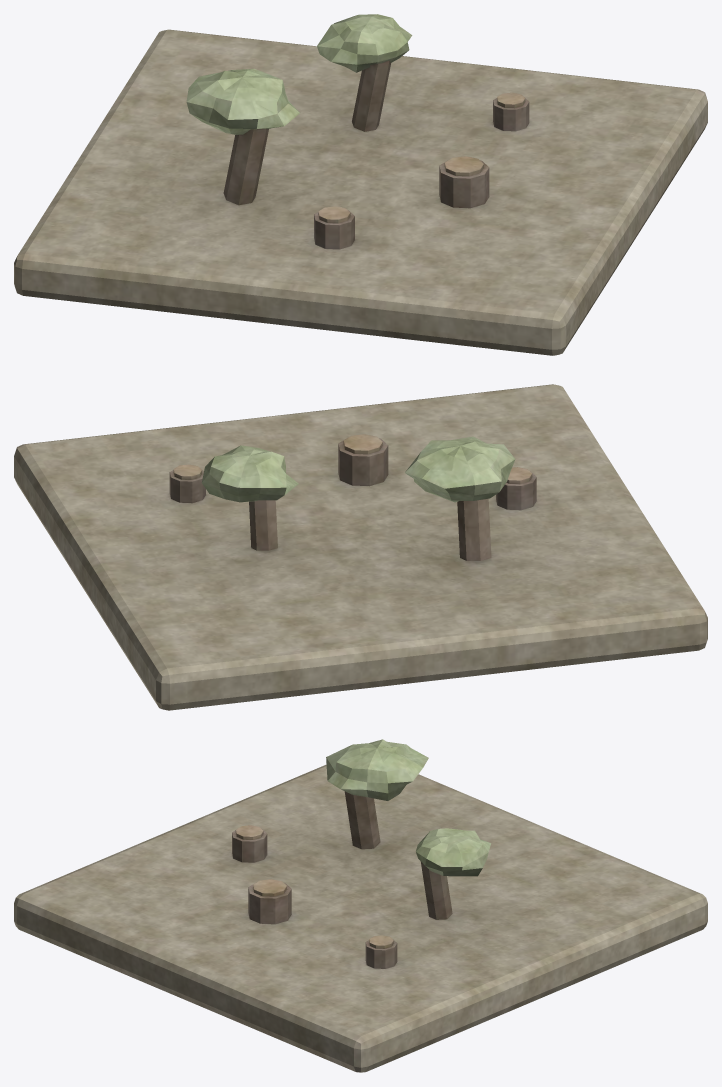
Rendered from gryk_forest.glb.
The picture shows the model from 3 angles, top to bottom: view 1: azimuth 30°, elevation 25°; view 2: azimuth 150°, elevation 25°; view 3: azimuth 270°, elevation 25°; orthographic projection. The views are drawn at different scales.
Visible parts, largest first — view 1: dilek; view 2: dilek; view 3: dilek.
Boxes of the visible parts, x1,y1,x2,y2 form: dilek: (14,14,707,355); dilek: (14,384,707,710); dilek: (14,739,707,1072).
Bounding box in the file's own units: 2.42 × 0.5222 × 2.42.
Materials: 1 (1 with a texture image).
